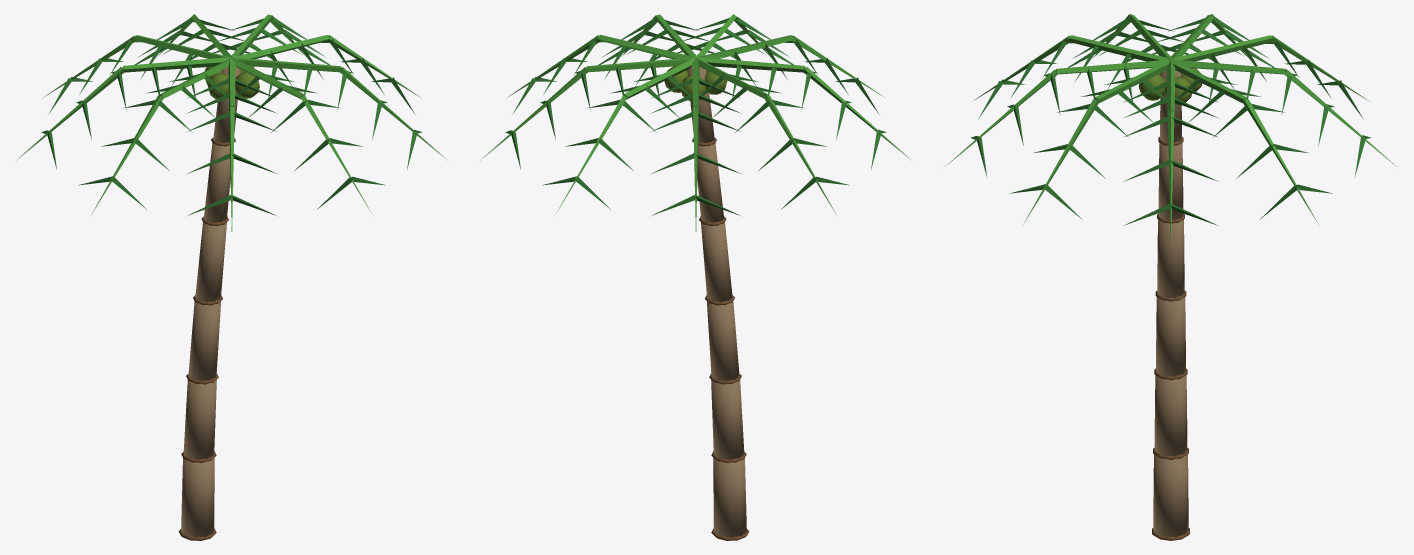
Rendered from prop_pohon_kelapa.glb.
The picture shows the model from 3 angles, left to right: view 1: azimuth 30°, elevation 25°; view 2: azimuth 150°, elevation 25°; view 3: azimuth 270°, elevation 25°; orthographic projection. The views are drawn at different scales.
Parts seen in each view (by area): view 1: pohon_kelapa; view 2: pohon_kelapa; view 3: pohon_kelapa.
Part boxes in pixels (bbox=[...]): pohon_kelapa: bbox=[16, 14, 447, 540]; pohon_kelapa: bbox=[480, 14, 911, 540]; pohon_kelapa: bbox=[945, 14, 1396, 540].
Size of the model in its own units: 5.04 by 6.08 by 5.12.
